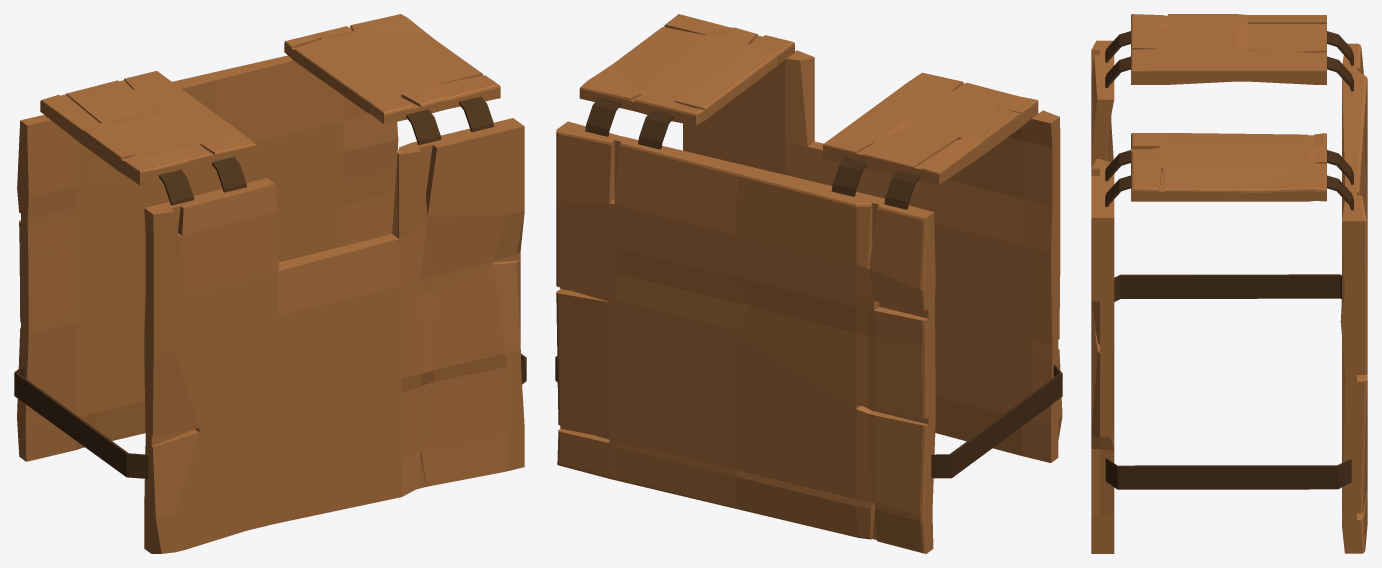
Rendered from woodenPadTorso.fbx.
3 views of the same model, side by side, from view 1: azimuth 30°, elevation 25°; view 2: azimuth 150°, elevation 25°; view 3: azimuth 270°, elevation 25° (orthographic).
Visible parts, largest first — view 1: Front Plate, Back Plate, right side, left side, front left.005, front left, front left.001; view 2: Back Plate, Front Plate, right side, left side, front left.005, front left.002, front left.003; view 3: right side, left side, Back Plate, Front Plate, front left.004, front left.005, front left.003, front left.002, front left.001, front left.
Boxes of the visible parts, x1=… form: Front Plate: x1=144, y1=118, x2=524, y2=553; Back Plate: x1=17, y1=55, x2=398, y2=461; right side: x1=40, y1=71, x2=256, y2=185; left side: x1=284, y1=14, x2=500, y2=124; front left.005: x1=14, y1=365, x2=148, y2=478; front left: x1=406, y1=96, x2=494, y2=145; front left.001: x1=159, y1=157, x2=246, y2=205; Back Plate: x1=556, y1=121, x2=935, y2=553; Front Plate: x1=683, y1=50, x2=1062, y2=462; right side: x1=823, y1=72, x2=1038, y2=185; left side: x1=579, y1=14, x2=794, y2=125; front left.005: x1=931, y1=365, x2=1062, y2=478; front left.002: x1=831, y1=157, x2=920, y2=209; front left.003: x1=585, y1=97, x2=673, y2=149; right side: x1=1131, y1=14, x2=1326, y2=84; left side: x1=1131, y1=133, x2=1326, y2=201; Back Plate: x1=1340, y1=43, x2=1367, y2=553; Front Plate: x1=1091, y1=40, x2=1114, y2=553; front left.004: x1=1105, y1=458, x2=1351, y2=489; front left.005: x1=1114, y1=274, x2=1341, y2=301; front left.003: x1=1327, y1=150, x2=1353, y2=210; front left.002: x1=1327, y1=31, x2=1353, y2=91; front left.001: x1=1105, y1=31, x2=1130, y2=87; front left: x1=1105, y1=150, x2=1130, y2=206.
Size of the model in its own units: 203 by 180 by 123.
